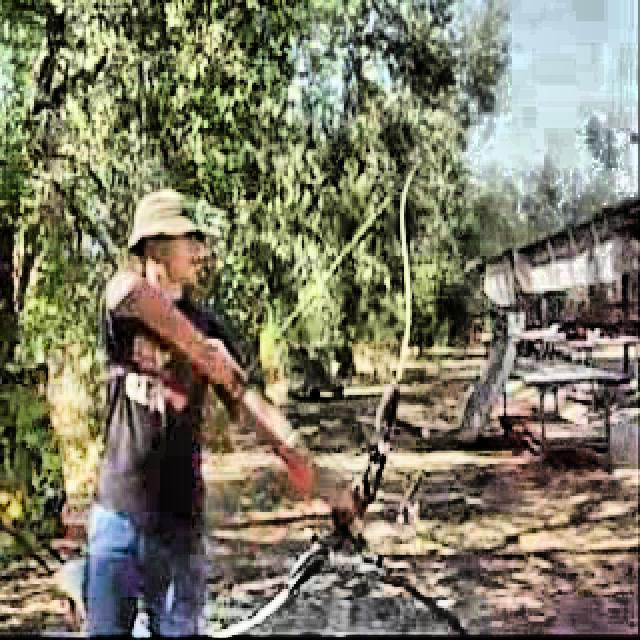I: (84, 191, 378, 636)
